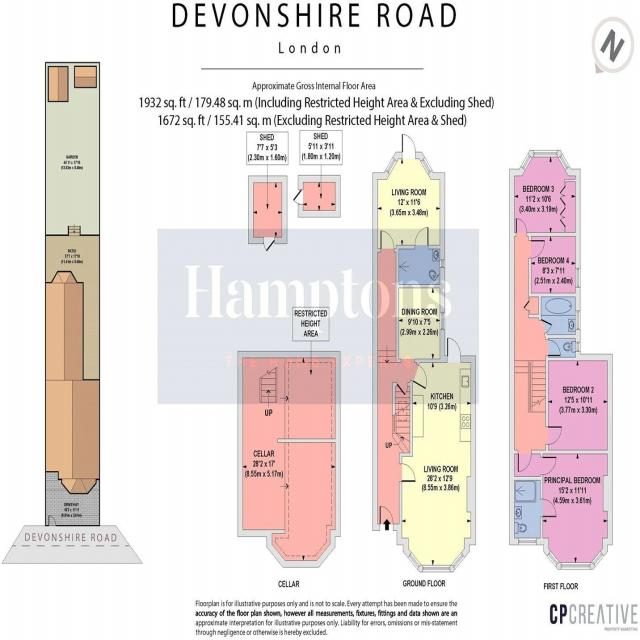DOOR: (411, 362, 428, 390), (379, 505, 394, 531), (446, 337, 461, 362), (545, 425, 563, 445), (414, 226, 429, 250), (379, 230, 395, 252), (540, 456, 557, 476), (540, 498, 557, 518), (528, 239, 545, 259), (399, 463, 416, 483), (545, 339, 561, 357), (515, 217, 527, 236), (539, 319, 553, 335)
ROOM: (397, 337, 476, 573), (540, 450, 613, 570), (372, 133, 445, 253), (545, 354, 613, 454), (509, 149, 581, 237), (396, 285, 445, 363), (528, 232, 581, 297)
WINDOW: (407, 551, 466, 573), (546, 550, 605, 570), (520, 150, 570, 172), (384, 156, 398, 176), (420, 156, 433, 176), (517, 537, 537, 546), (575, 267, 581, 289), (575, 310, 581, 331), (440, 311, 445, 330), (575, 341, 581, 353), (439, 259, 445, 268)
